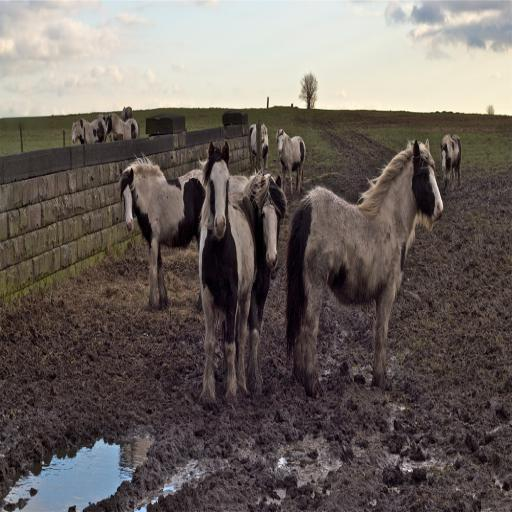horse: (284, 138, 446, 400), (198, 138, 259, 408), (218, 169, 286, 384), (117, 152, 208, 304), (275, 129, 307, 196), (439, 132, 463, 192), (248, 118, 270, 174), (68, 118, 109, 146), (106, 110, 140, 140)
